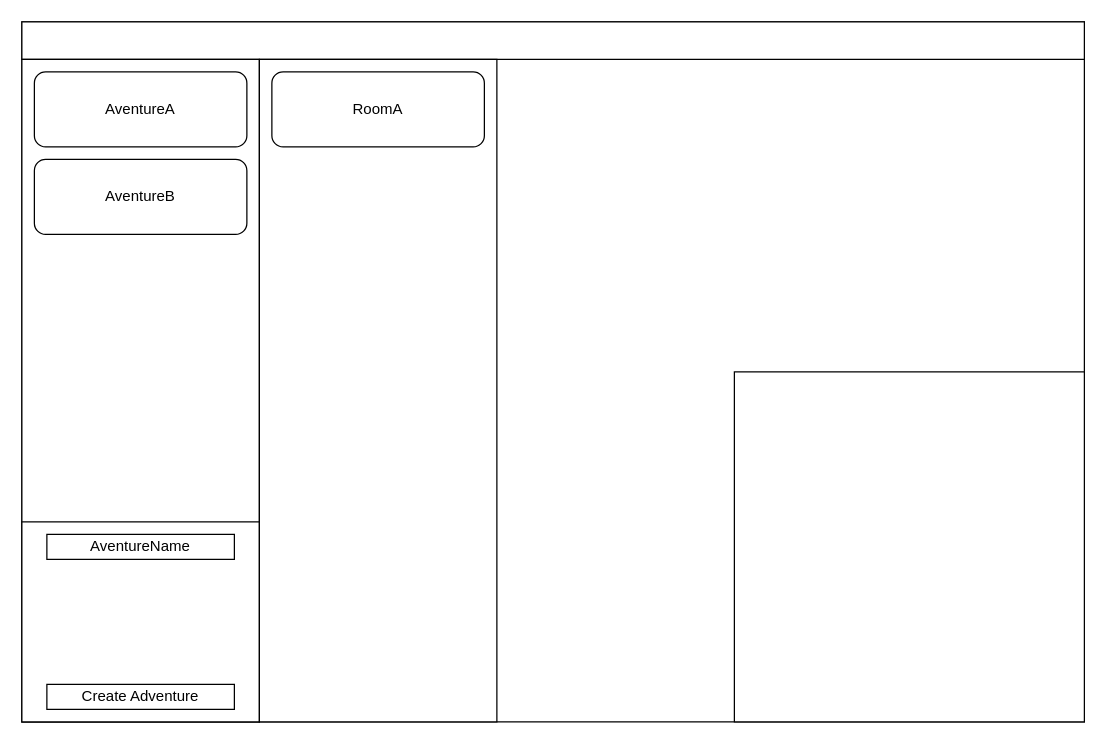
This 1106x744 diagram has some shape labels left out. Each missing label, with the centre of its shape:
"[ USERNAME ] [ PASSWORD ] [LOGIN] [LOGIN AS ATHERALL] [LOGIN AS ATALYKIS]" goes at [552,40].
"NO ROOM" goes at [908,546].
